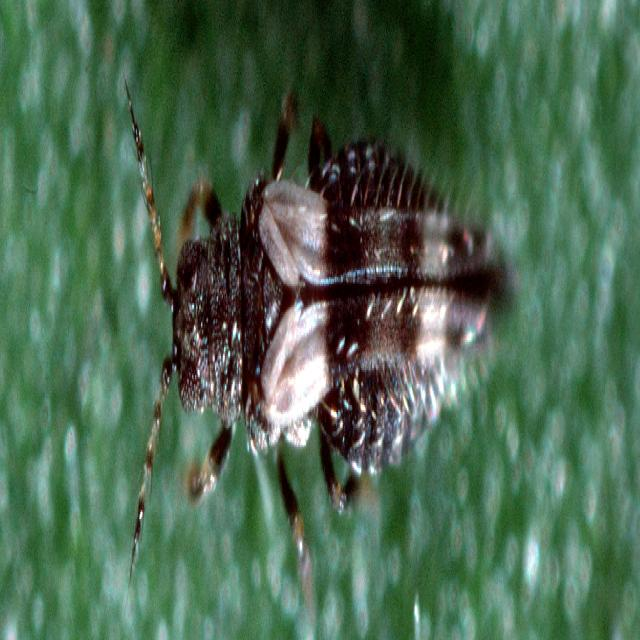Thrip-Adult-: (109, 32, 539, 574)
